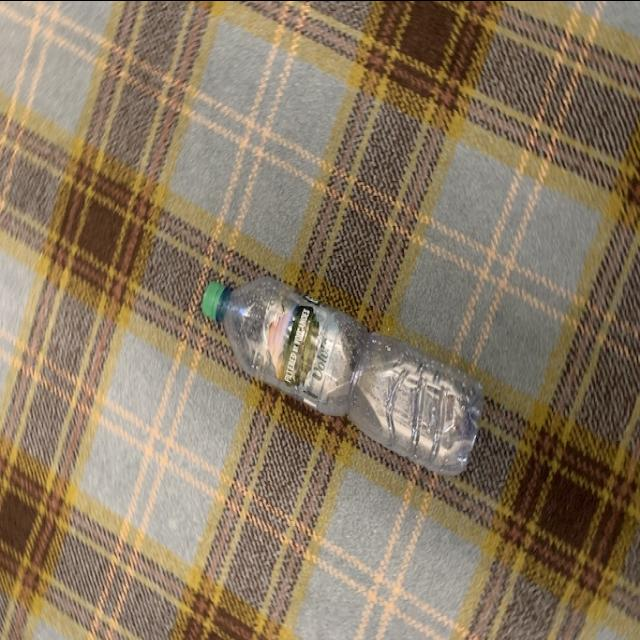PET: (204, 274, 489, 478)
